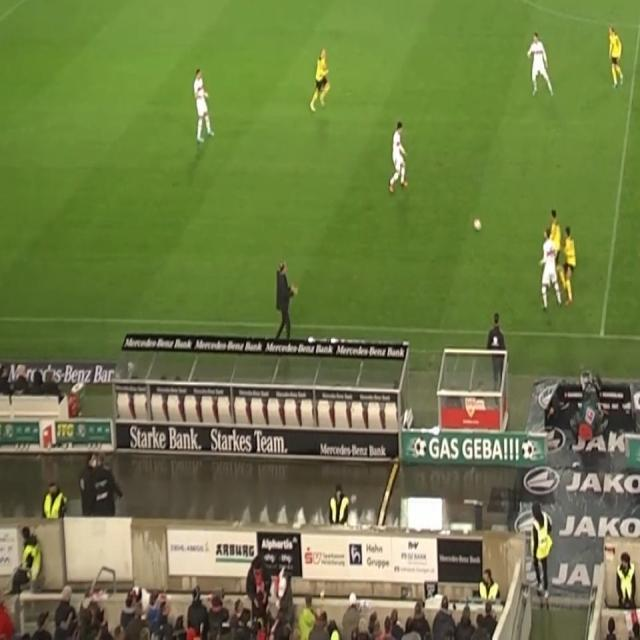ball: (473, 218, 482, 233)
